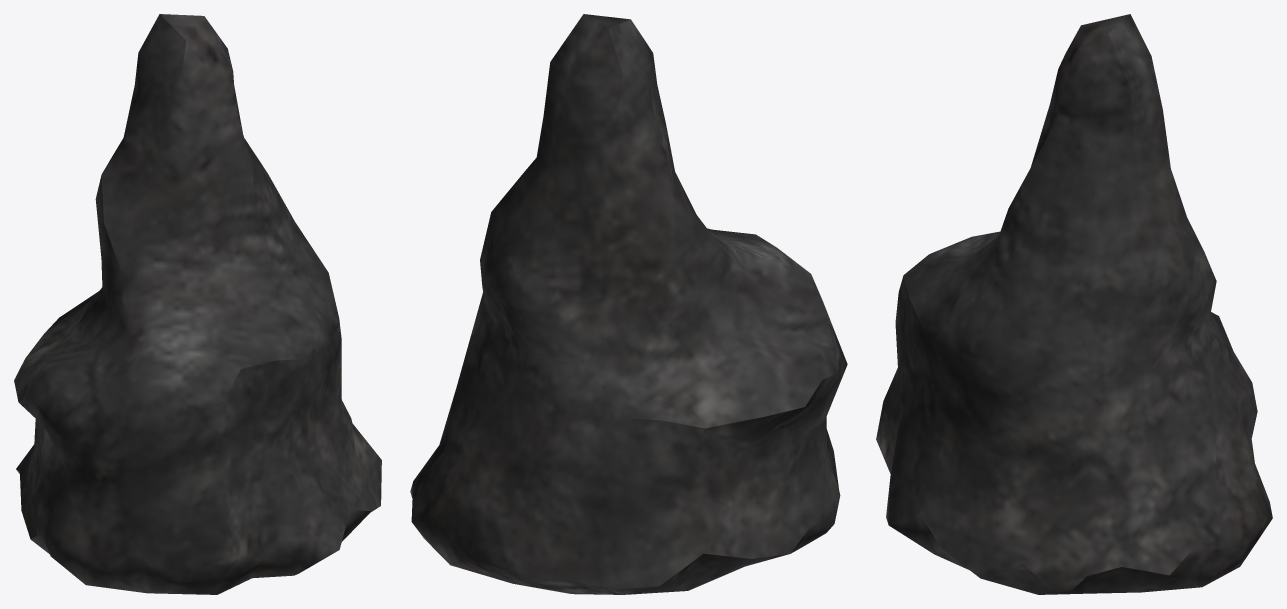
Rendered from ShortBottom.fbx.
The picture shows the model from 3 angles, left to right: view 1: azimuth 30°, elevation 25°; view 2: azimuth 150°, elevation 25°; view 3: azimuth 270°, elevation 25°; orthographic projection. The views are drawn at different scales.
Parts seen in each view (by area): view 1: ShortBottom; view 2: ShortBottom; view 3: ShortBottom.
Part boxes in pixels (<box>): ShortBottom: <box>14,14,381,594</box>; ShortBottom: <box>410,14,847,594</box>; ShortBottom: <box>876,14,1272,594</box>.
Size of the model in its own units: 57.56 by 79.6 by 55.66.
1 material, 1 textured.
